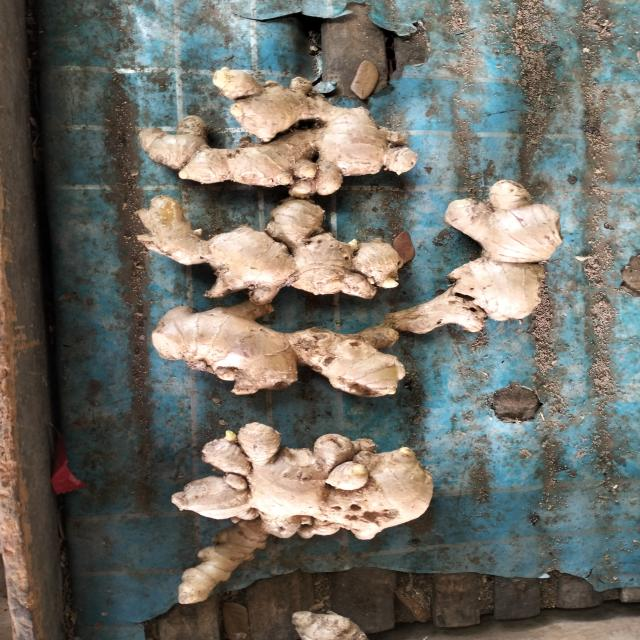ginger: (158, 411, 466, 596), (131, 51, 444, 194), (102, 179, 434, 304), (140, 302, 422, 408), (423, 187, 570, 341)
